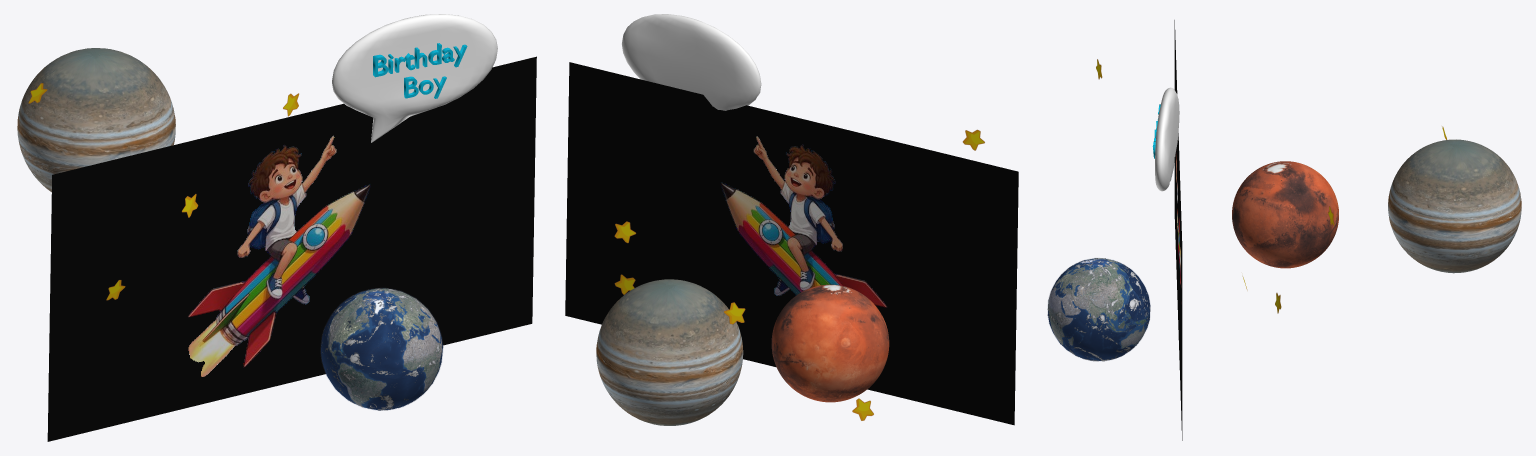
3 views of the same model, side by side, from view 1: azimuth 30°, elevation 25°; view 2: azimuth 150°, elevation 25°; view 3: azimuth 270°, elevation 25° (orthographic). The views are drawn at different scales.
Visible parts, largest first — view 1: images-removebg-preview, JUPITER_0, Sphere, Atmosphere, Text; view 2: images-removebg-preview, JUPITER_0, mars_1, Sphere; view 3: JUPITER_0, mars_1, Atmosphere, Sphere, images-removebg-preview.
Part boxes in pixels (x1=…): images-removebg-preview: x1=47, y1=56, x2=536, y2=441; JUPITER_0: x1=17, y1=48, x2=175, y2=192; Sphere: x1=332, y1=14, x2=497, y2=142; Atmosphere: x1=320, y1=288, x2=443, y2=410; Text: x1=373, y1=43, x2=467, y2=98; images-removebg-preview: x1=565, y1=62, x2=1018, y2=425; JUPITER_0: x1=596, y1=279, x2=743, y2=425; mars_1: x1=771, y1=284, x2=889, y2=402; Sphere: x1=622, y1=14, x2=761, y2=110; JUPITER_0: x1=1388, y1=139, x2=1521, y2=273; mars_1: x1=1232, y1=161, x2=1338, y2=268; Atmosphere: x1=1047, y1=258, x2=1150, y2=361; Sphere: x1=1155, y1=87, x2=1179, y2=191; images-removebg-preview: x1=1174, y1=20, x2=1182, y2=440.
Size of the model in its own units: 9.39 by 6.69 by 9.43.
9 materials, 6 textured.
